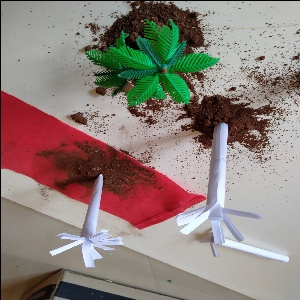plant: (81, 23, 215, 103)
weed: (174, 117, 245, 247), (49, 173, 127, 272)
